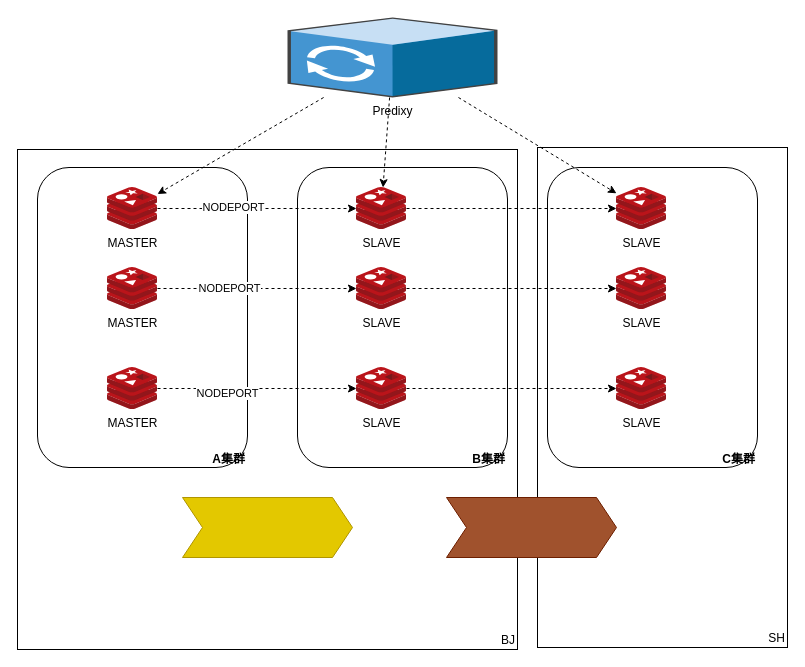
Some shapes in this 805 by 667 pixel diagram are drawn without their labels. The shapes that lost their labels are listed below. From the top down, each one's centre as x and y in pixels, then its label:
At [267,527]: "FAILOVER TAKEOVER".
At [531,527]: "FAILOVER TAKEOVER(HAND)".
